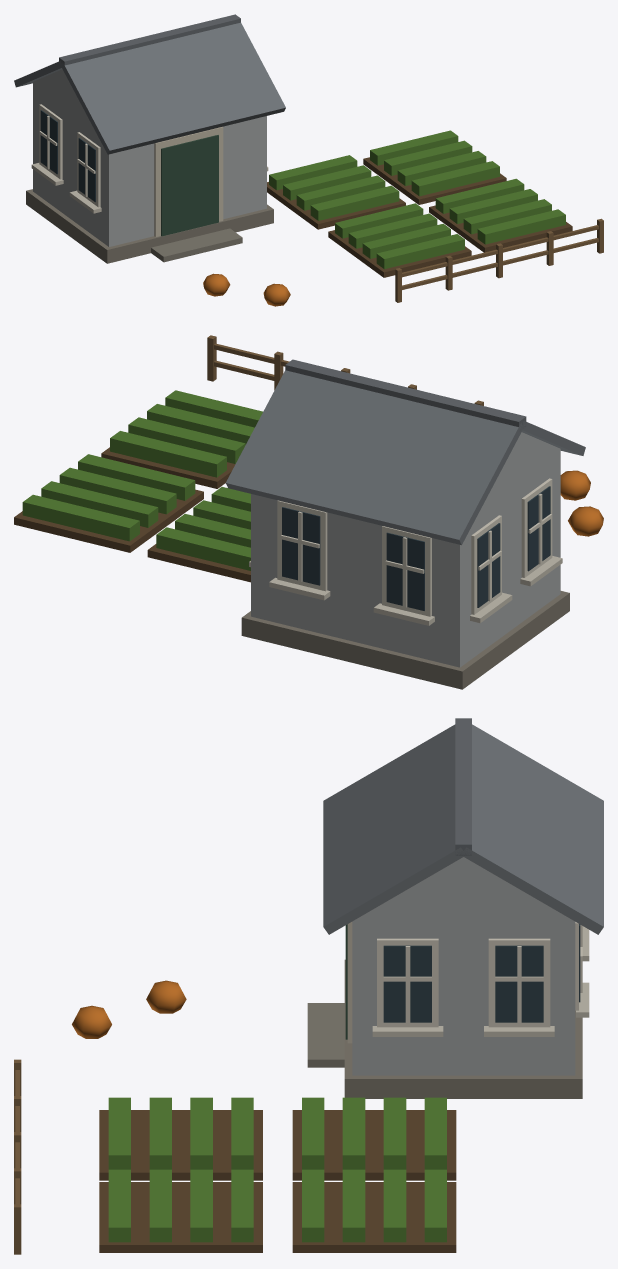
The model's file is procedural_vegetable_garden@6.glb.
3 views of the same model, one above another, from view 1: azimuth 30°, elevation 25°; view 2: azimuth 150°, elevation 25°; view 3: azimuth 270°, elevation 25° (orthographic). The views are drawn at different scales.
Parts seen in each view (by area): view 1: part_0; view 2: part_0; view 3: part_0.
Boxes of the visible parts, x1,y1,x2,y2 form: part_0: (14,14,603,306); part_0: (14,335,603,689); part_0: (14,718,603,1254).
Bounding box in the file's own units: 8.86 × 3.83 × 7.94.
